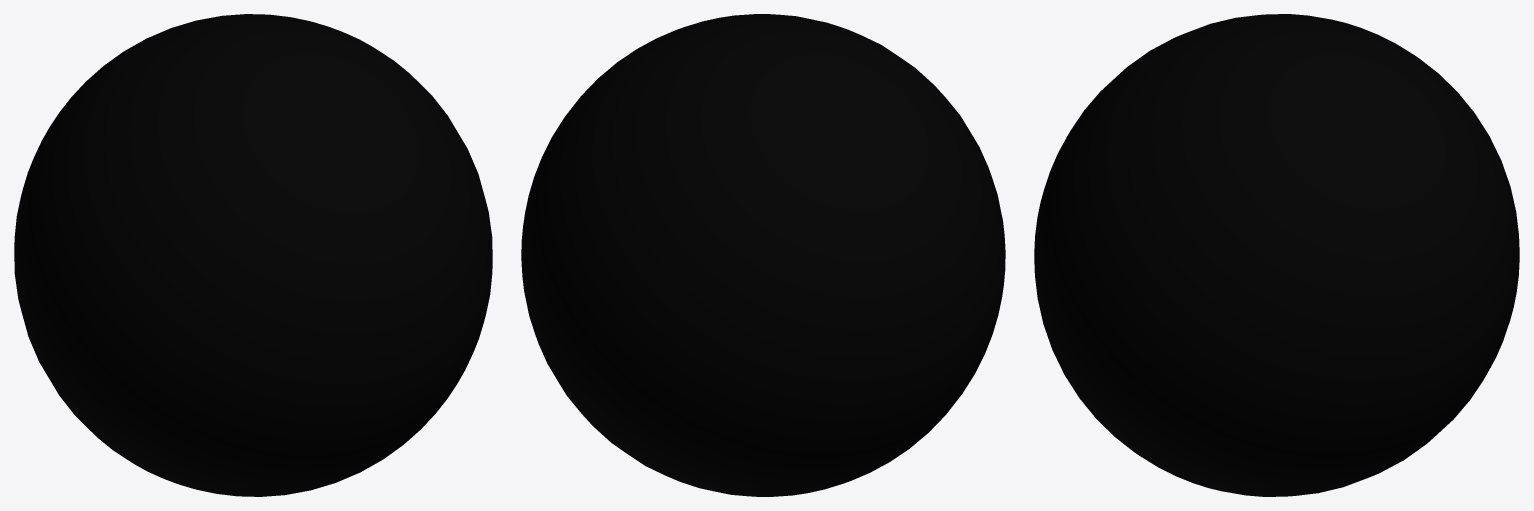
3 views of the same model, side by side, from view 1: azimuth 30°, elevation 25°; view 2: azimuth 150°, elevation 25°; view 3: azimuth 270°, elevation 25° (orthographic).
Visible parts, largest first — view 1: mesh_id27; view 2: mesh_id27; view 3: mesh_id27.
Part boxes in pixels (x1,y1,x2,y2): mesh_id27: (14, 14, 492, 496); mesh_id27: (521, 14, 1005, 496); mesh_id27: (1034, 14, 1519, 496).
Size of the model in its own units: 0.2191 by 0.2199 by 0.2208.
1 material, 1 textured.
